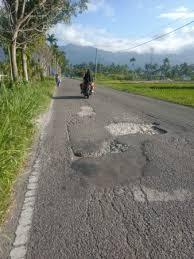Pothole: (39, 89, 194, 210)
